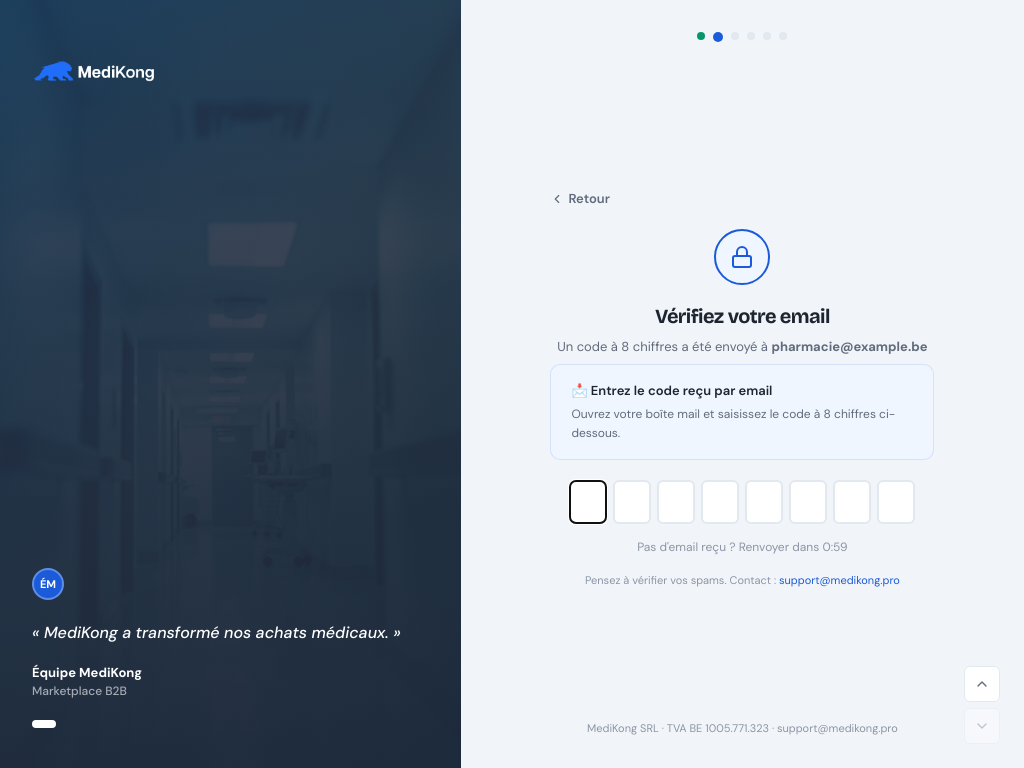
Test: Onboarding — validation du code reçu par e-mail › affiche une erreur quand le code est expiré
This screenshot has width=1024, height=768.
Earlier steps of the test are not shown.
Check: the heading "Vérifiez votre email" is shown, box [655,304,830,328]
Step 1. Type "1" into the 1st field → (588, 502), box [569,480,607,524]
Step 2. Type "1" into the 2nd field → (632, 502), box [613,480,651,524]
Step 3. Type "1" into the 3rd field → (676, 502), box [657,480,695,524]
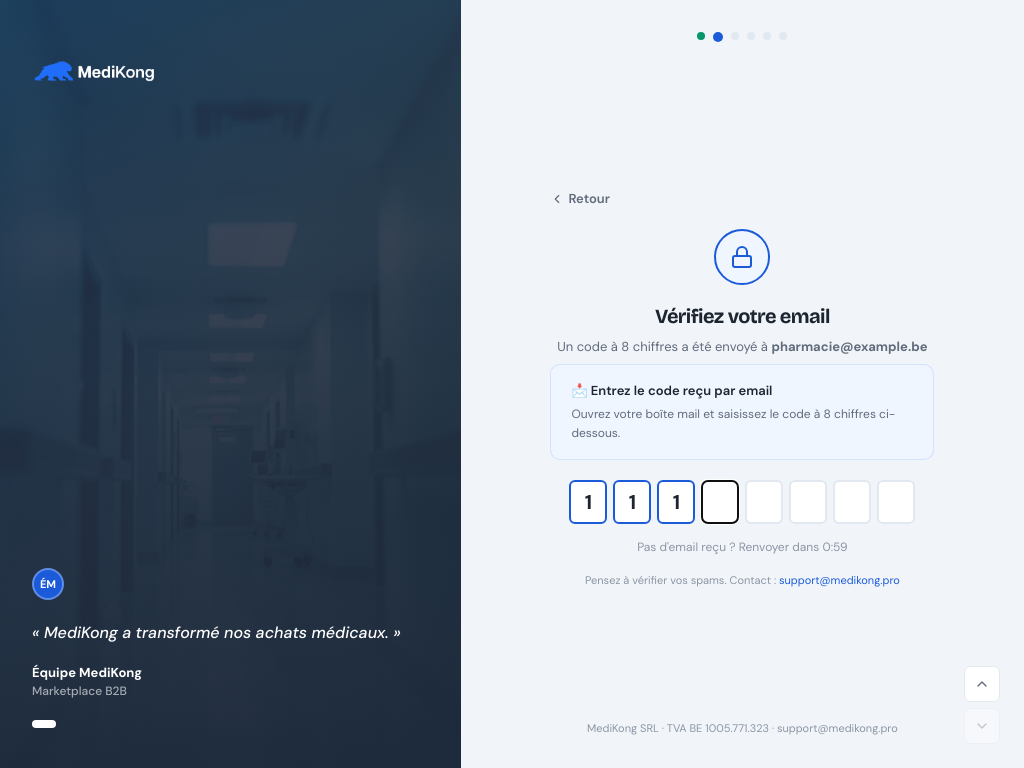
Step 4. Type "1" into the 4th field → (720, 502), box [701,480,739,524]
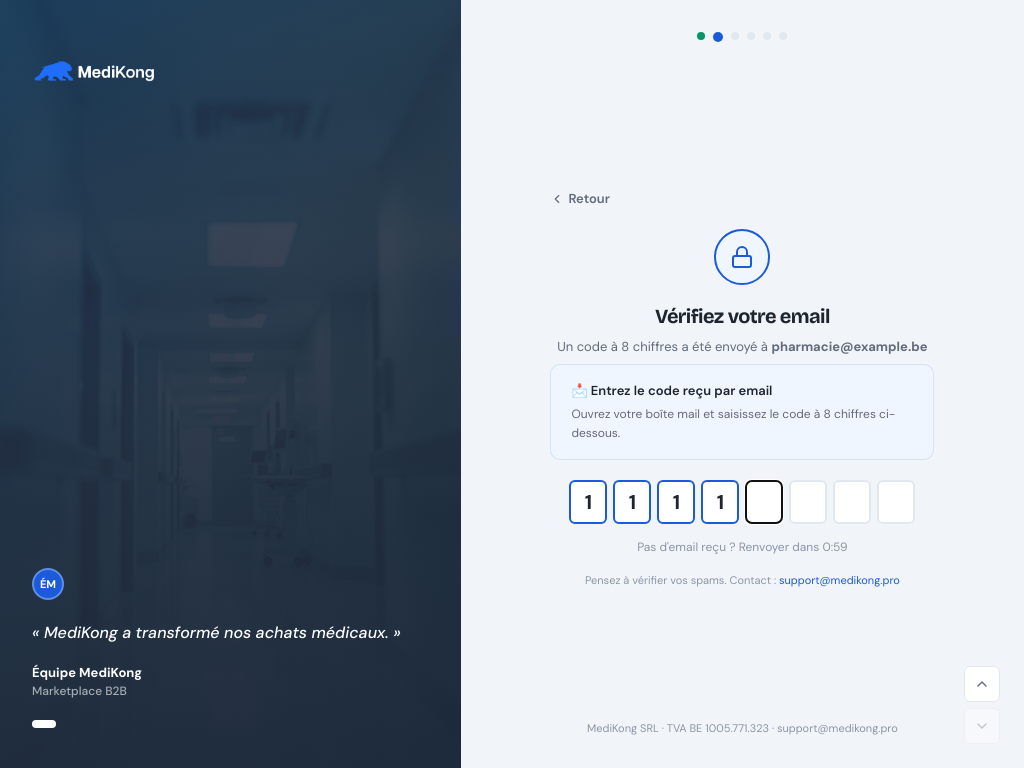
Step 5. Type "1" into the 5th field → (764, 502), box [745,480,783,524]
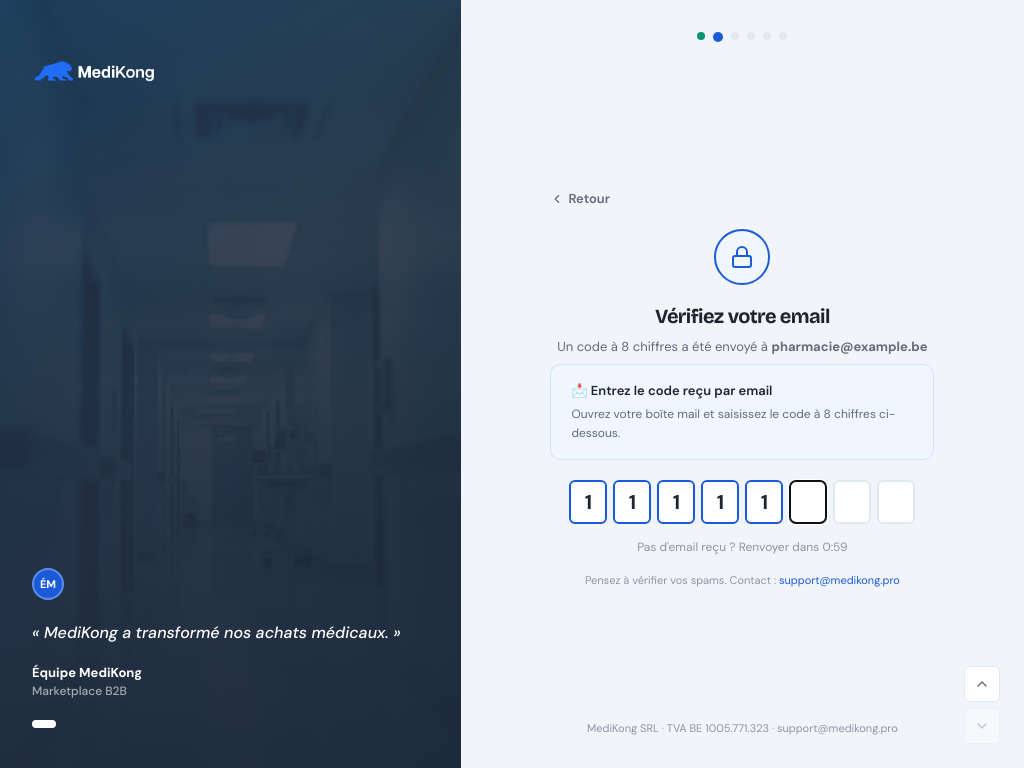
Step 6. Type "1" into the 6th field → (808, 502), box [789,480,827,524]
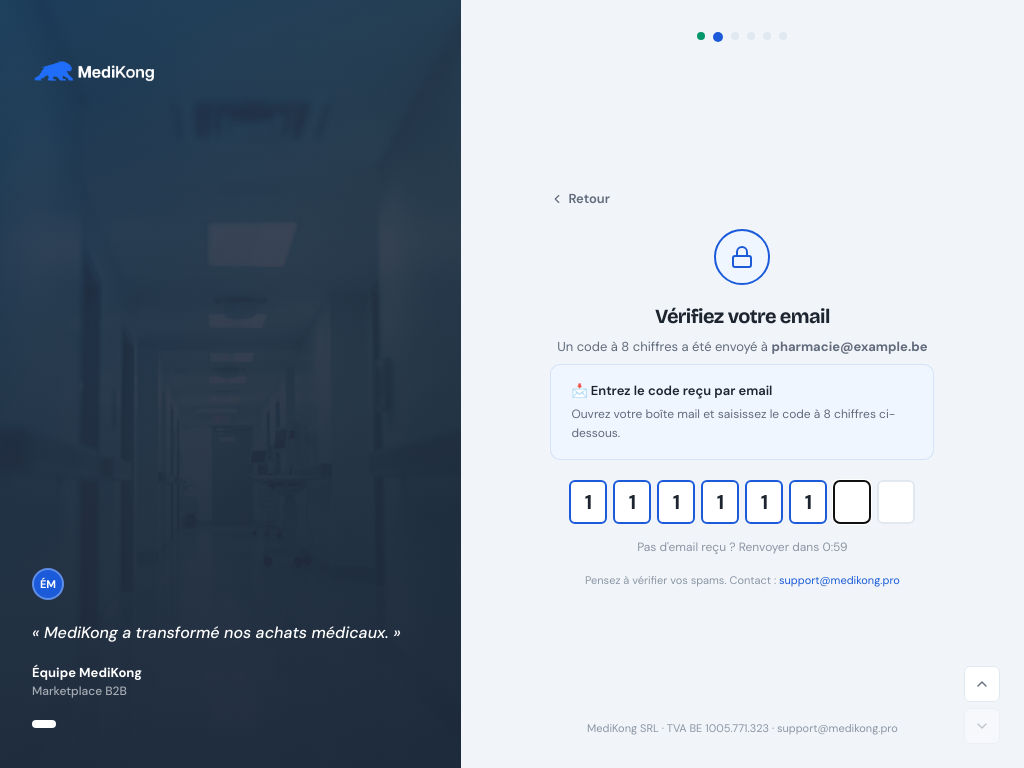
Step 7. Type "1" into the 7th field → (852, 502), box [833,480,871,524]
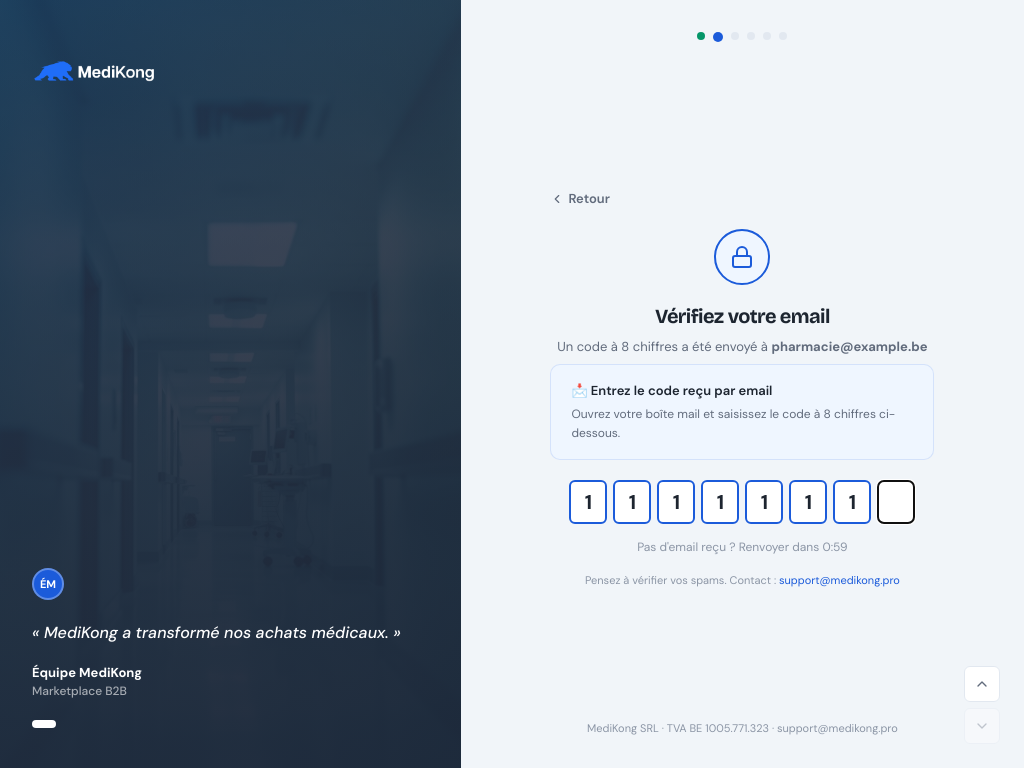
Step 8. Type "1" into the 8th field → (896, 502), box [877,480,915,524]
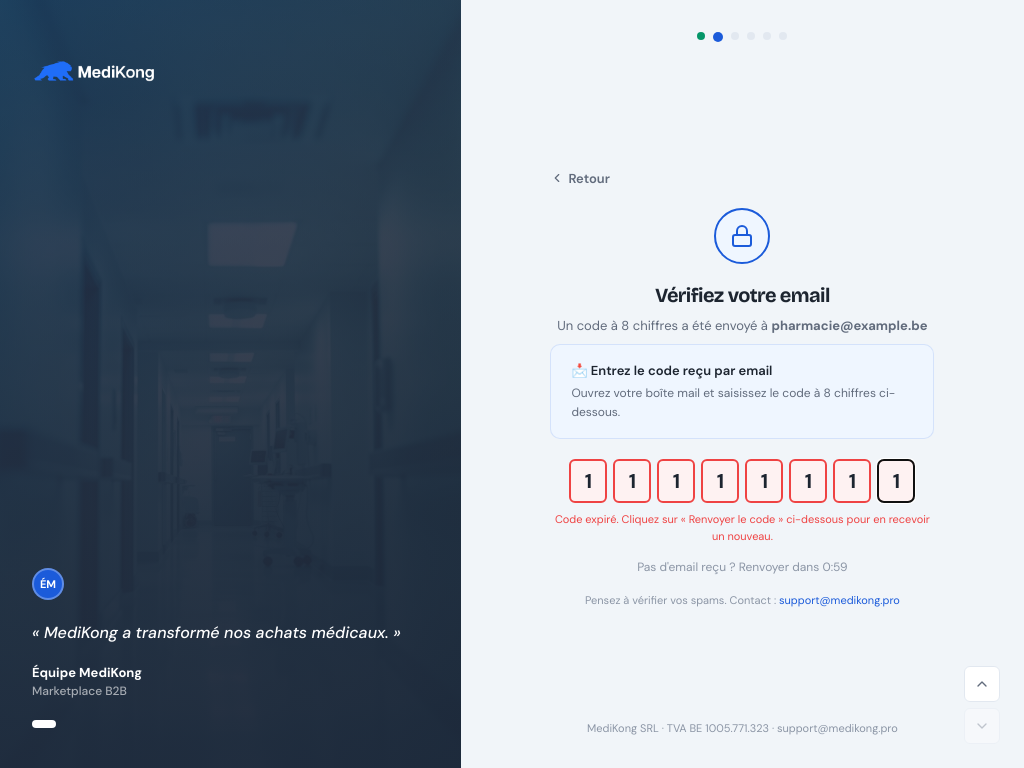
Check: the heading "Vérifiez votre email" is shown, box [655,283,830,307]
Check: the text "Code expiré. Cliquez sur « Renvoyer le code » ci-dessous pour en recevoir un nouveau." is shown, box [555,512,930,543]
